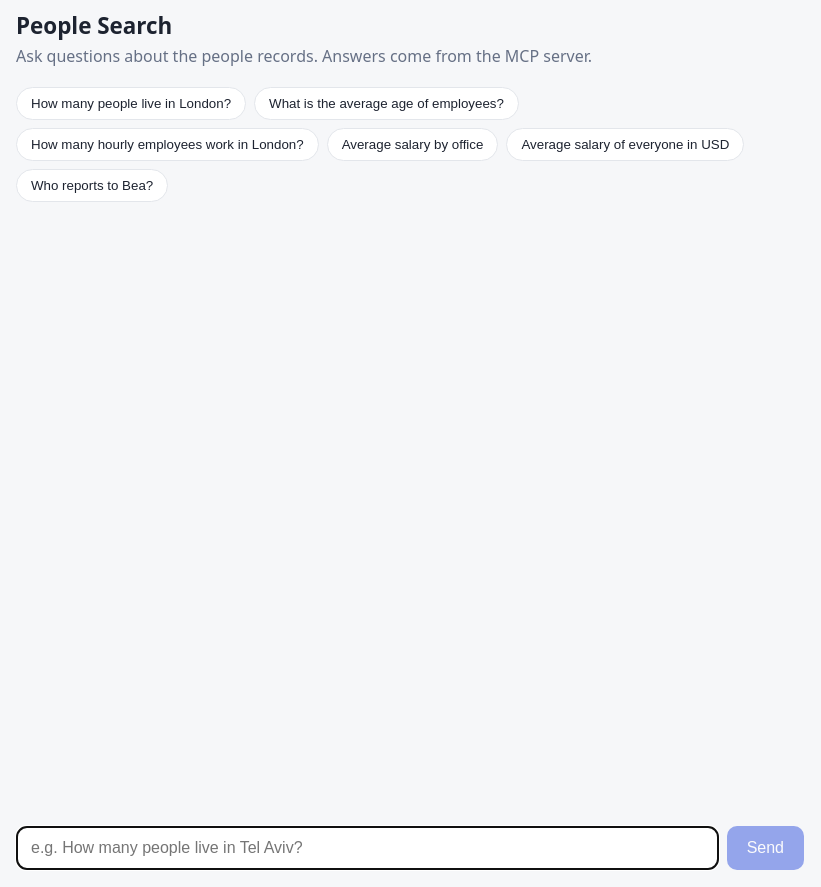
Test: People Search chat › shows errors rejected before streaming and leaves them out of the history
Type "London?" into the field at [367, 848], box [16,826,719,870]
Then press Enter
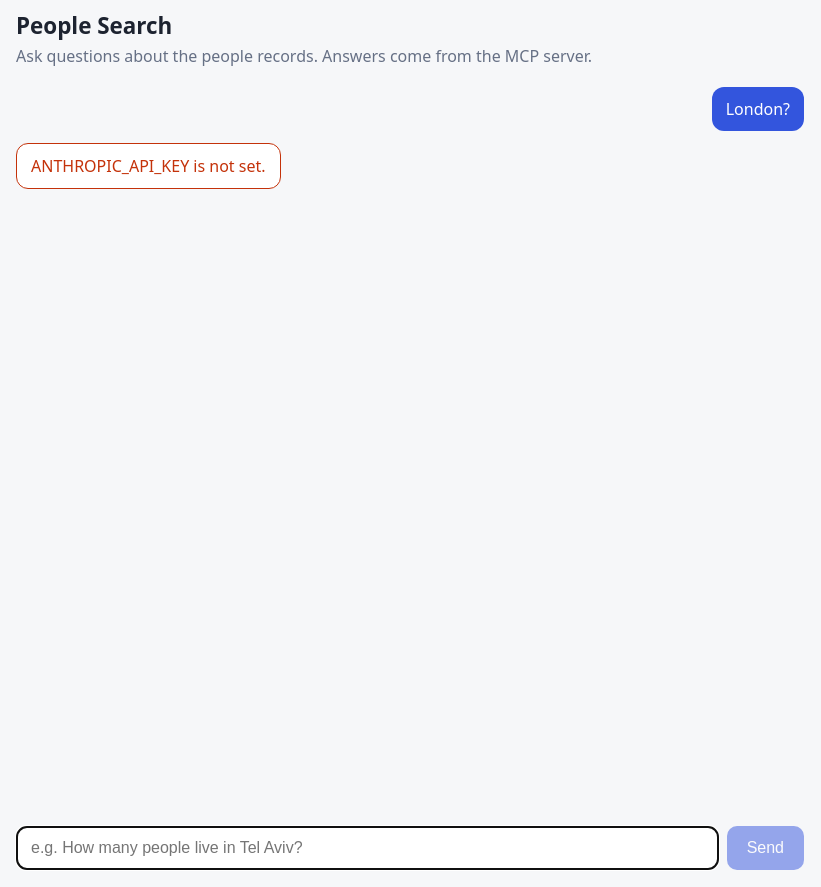
Check: the text "ANTHROPIC_API_KEY is not set." is shown, box [31,154,266,178]
Type "Tel Aviv?" into the field at [367, 848], box [16,826,719,870]
Then press Enter
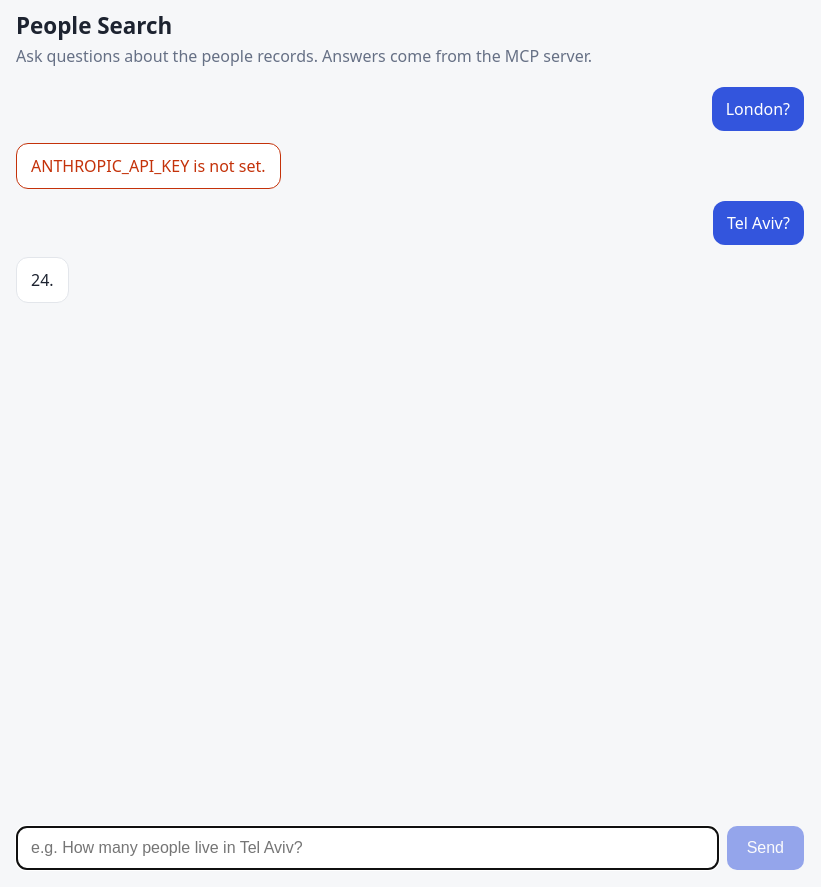
Check: the text "24." is shown, box [31,268,54,292]
